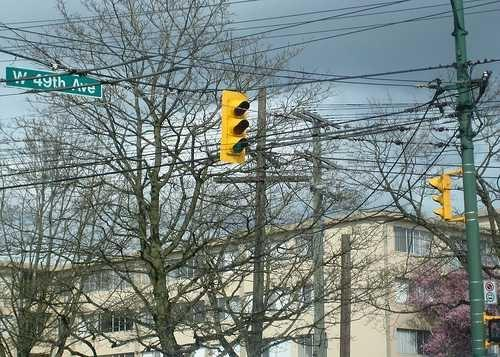green: (223, 86, 248, 160)
